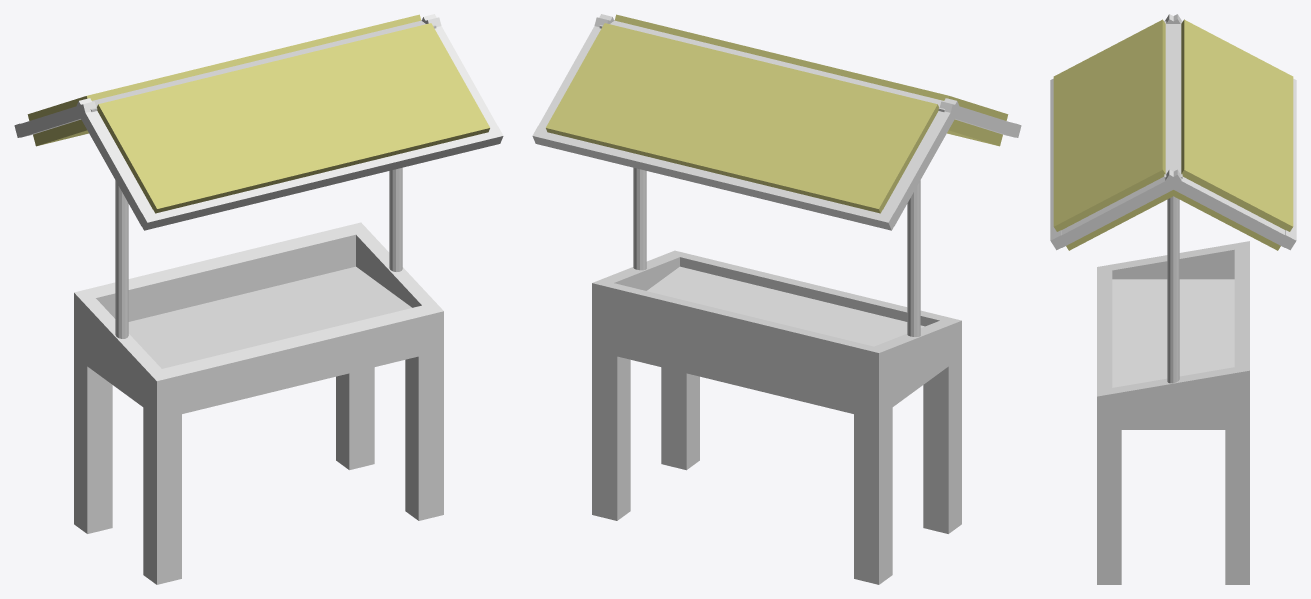
Rendered from MarketStand.fbx.
3 views of the same model, side by side, from view 1: azimuth 30°, elevation 25°; view 2: azimuth 150°, elevation 25°; view 3: azimuth 270°, elevation 25° (orthographic). The views are drawn at different scales.
Parts seen in each view (by area): view 1: Cube, Cube.006, Cube.008, Cube.007, Cube.002, Cylinder.001, Cube.001, Cylinder, Cube.003, Cube.005; view 2: Cube, Cube.007, Cube.009, Cube.006, Cube.003, Cylinder.001, Cube.001, Cylinder, Cube.004, Cube.002; view 3: Cube, Cube.007, Cube.006, Cube.001, Cylinder, Cube.005, Cube.004, Cube.008, Cube.009.
Part boxes in pixels (x1=…): Cube: x1=74, y1=222, x2=443, y2=584; Cube.006: x1=97, y1=23, x2=489, y2=213; Cube.008: x1=138, y1=125, x2=503, y2=230; Cube.007: x1=27, y1=14, x2=421, y2=146; Cube.002: x1=76, y1=98, x2=152, y2=225; Cylinder.001: x1=115, y1=180, x2=128, y2=338; Cube.001: x1=90, y1=19, x2=436, y2=111; Cylinder: x1=389, y1=167, x2=402, y2=271; Cube.003: x1=17, y1=101, x2=96, y2=137; Cube.005: x1=421, y1=14, x2=497, y2=127; Cube: x1=592, y1=250, x2=961, y2=584; Cube.007: x1=546, y1=23, x2=938, y2=213; Cube.009: x1=532, y1=125, x2=894, y2=230; Cube.006: x1=614, y1=14, x2=1008, y2=146; Cube.003: x1=883, y1=98, x2=960, y2=225; Cylinder.001: x1=907, y1=180, x2=920, y2=336; Cube.001: x1=599, y1=19, x2=945, y2=111; Cylinder: x1=633, y1=167, x2=646, y2=270; Cube.004: x1=538, y1=14, x2=614, y2=127; Cube.002: x1=939, y1=101, x2=1015, y2=137; Cube: x1=1097, y1=241, x2=1249, y2=584; Cube.007: x1=1169, y1=19, x2=1293, y2=250; Cube.006: x1=1053, y1=19, x2=1177, y2=250; Cube.001: x1=1164, y1=21, x2=1182, y2=178; Cylinder: x1=1167, y1=196, x2=1179, y2=383; Cube.005: x1=1055, y1=169, x2=1183, y2=247; Cube.004: x1=1164, y1=169, x2=1291, y2=247; Cube.008: x1=1050, y1=78, x2=1066, y2=250; Cube.009: x1=1282, y1=78, x2=1296, y2=250.
Bounding box in the file's own units: 124 × 153 × 80.27.
